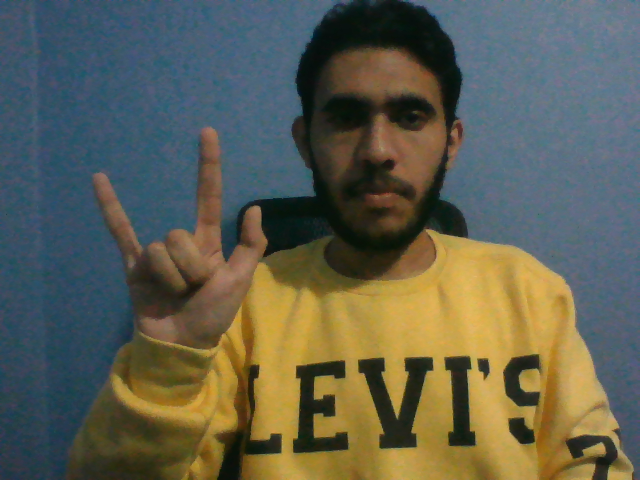iloveyou: (85, 125, 274, 360)
